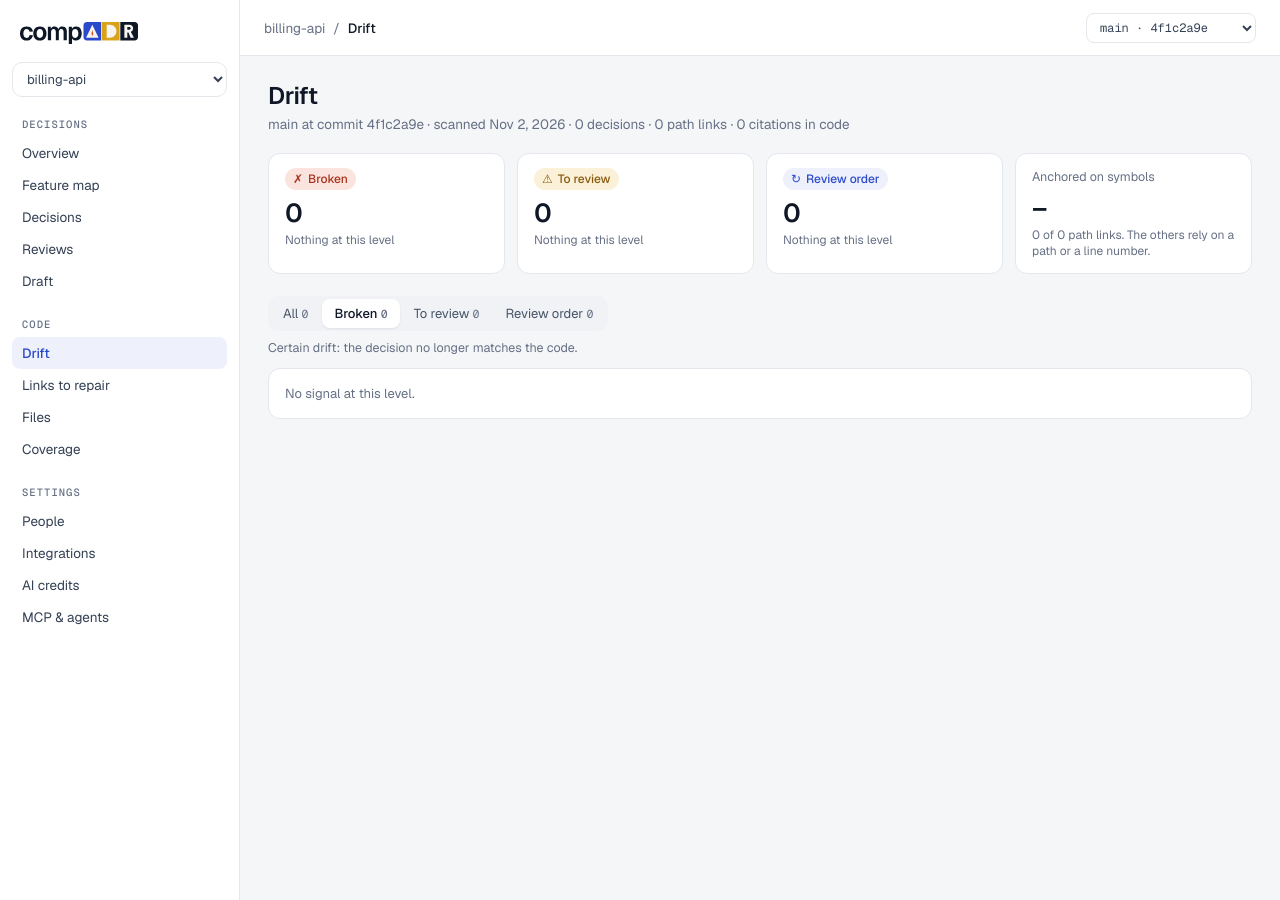
Test case: reports › resets the reference when the repository changes
Check: the text "main at commit 4f1c2a9e" is shown, box left=268, top=115, right=850, bottom=133
Select "develop · 9a8b7c6d" in the dropdown named "Git reference" in the row of "billing-api" at {"x": 1171, "y": 28}, box left=1086, top=12, right=1256, bottom=42
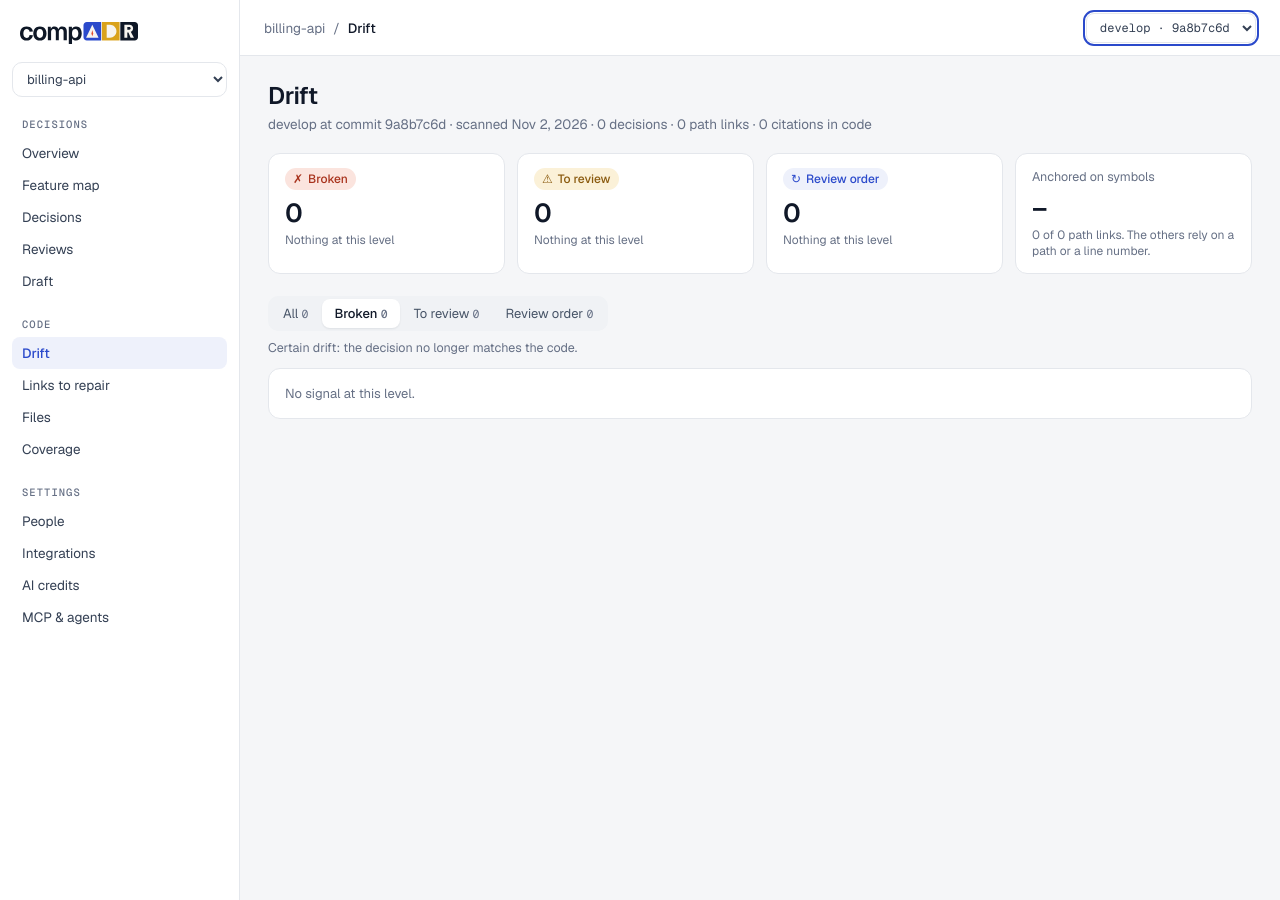
Select "billing-web" in the 2nd dropdown named "Repository" at {"x": 120, "y": 80}, box left=12, top=62, right=227, bottom=97
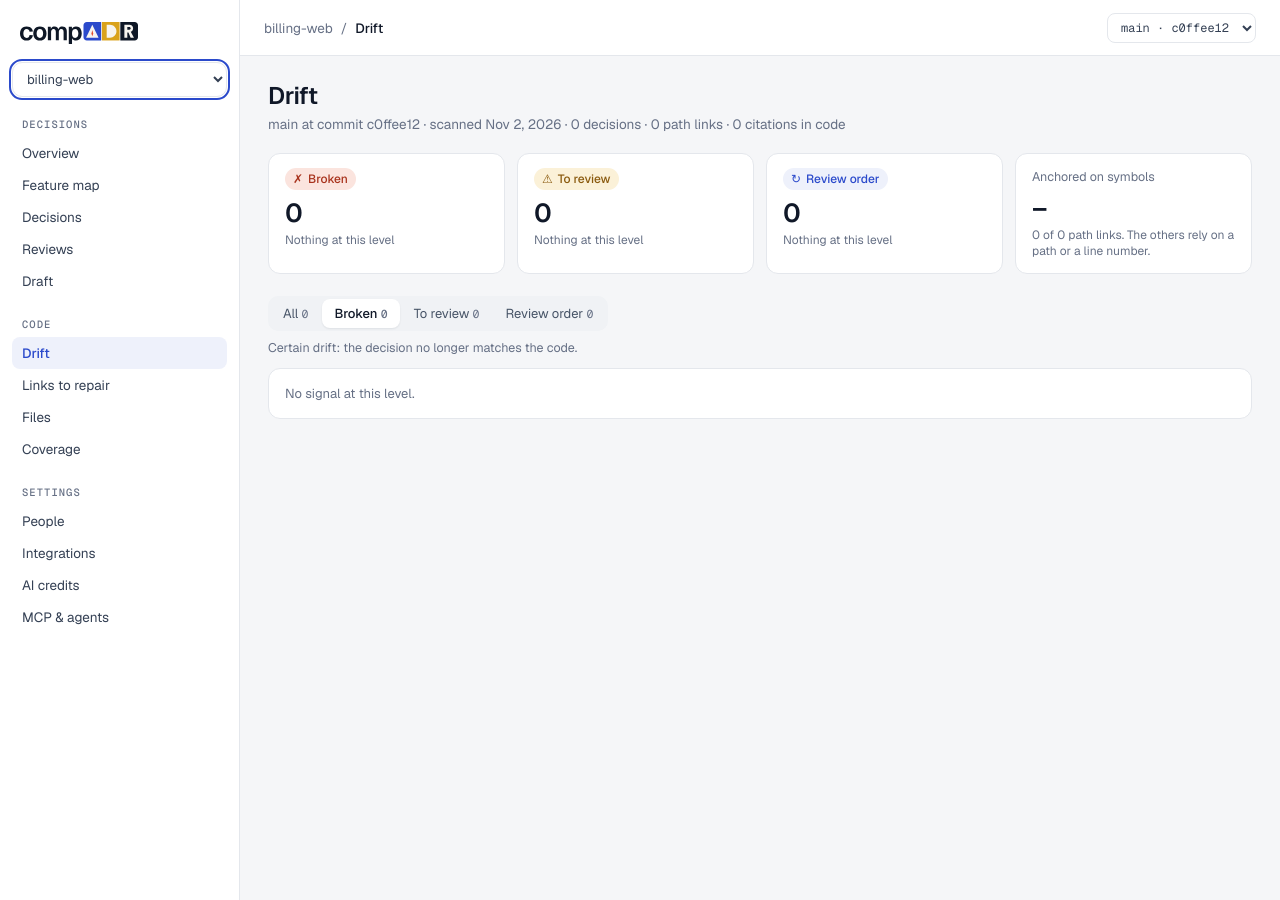
Check: the text "main at commit c0ffee12" is shown, box left=268, top=115, right=846, bottom=133
